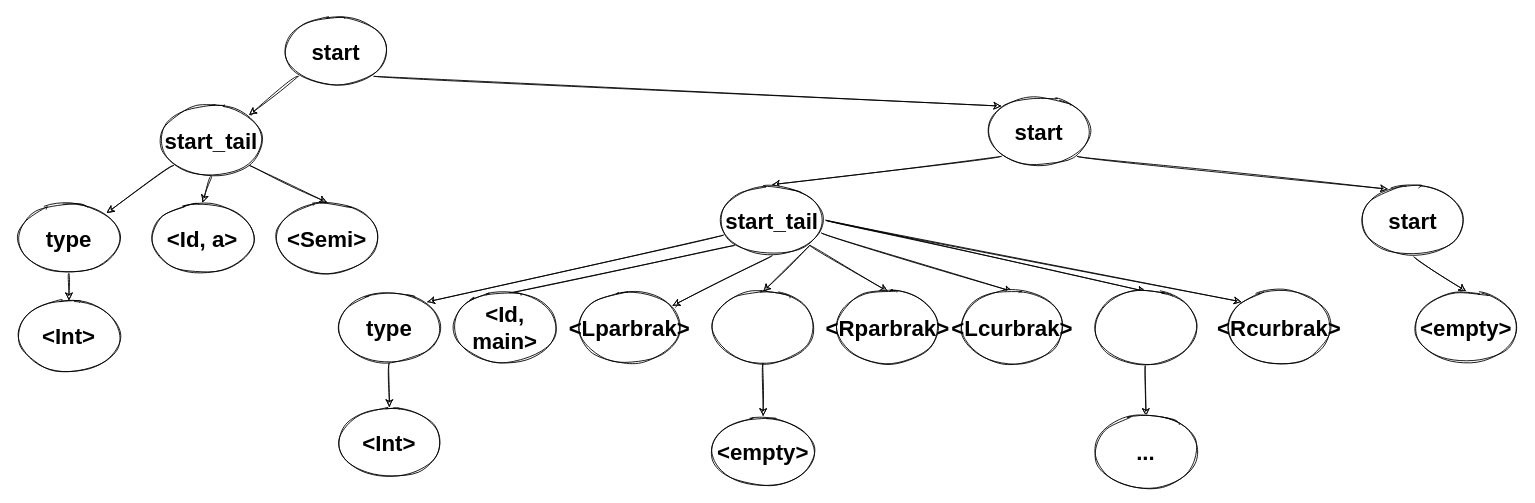
The diagram is 1535 pixels wide and 503 high, and some of its shapes have lost their labels. Each missing label, with the centre of its shape:
"func_params" belongs at (763,327).
"stmts" belongs at (1145,327).
